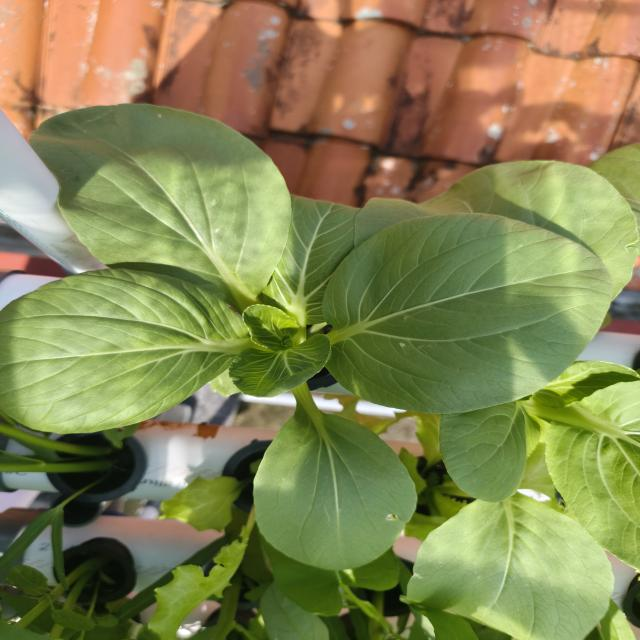daun-pakcoy: (324, 213, 611, 413), (31, 105, 291, 310), (0, 269, 249, 433), (254, 409, 416, 570), (264, 194, 359, 334), (229, 335, 331, 397), (243, 304, 298, 351)
